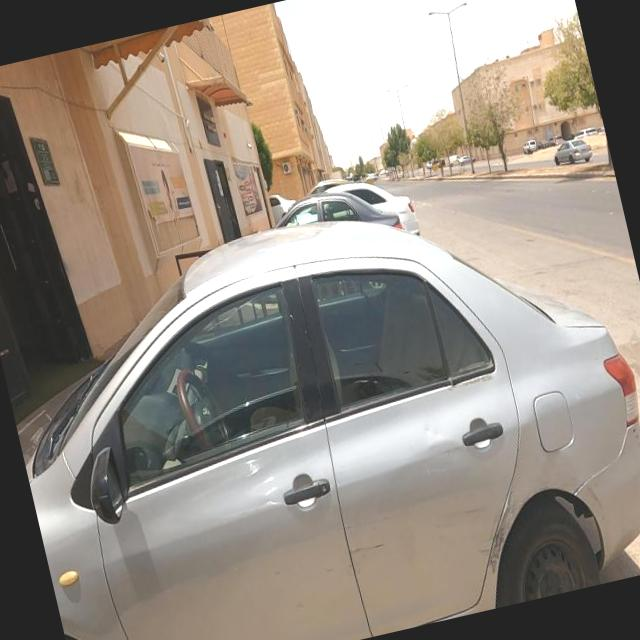debris: (65, 36, 256, 326)
